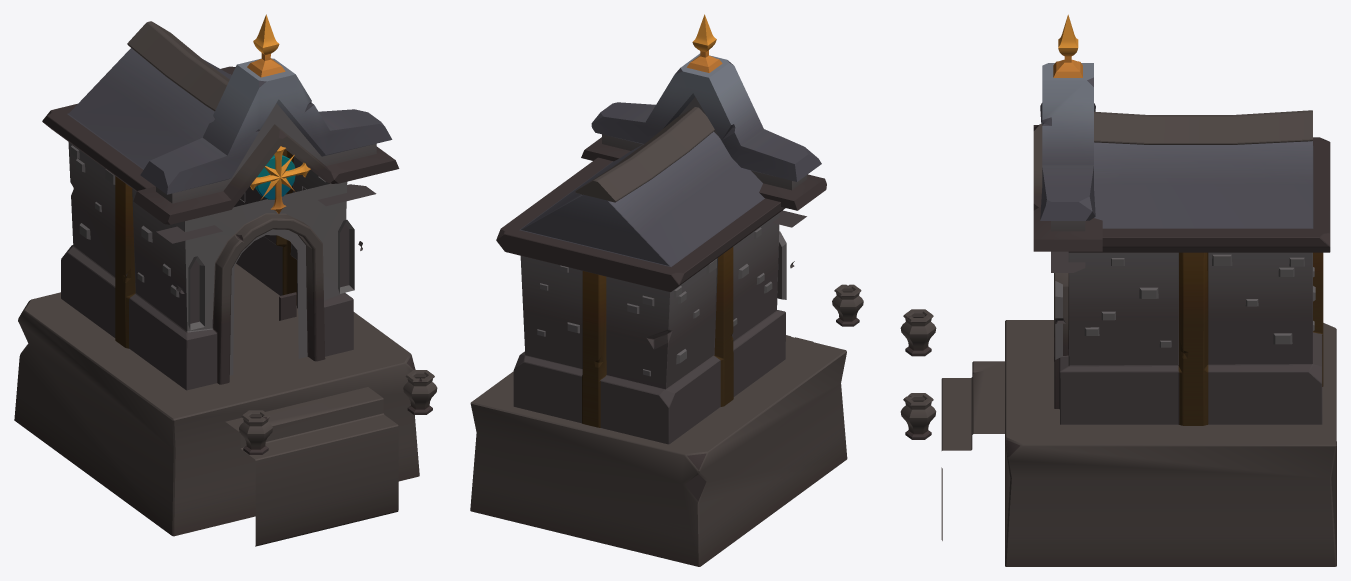
Rendered from Crypt_01_3.fbx.
3 renders of one model, left to right at view 1: azimuth 30°, elevation 25°; view 2: azimuth 150°, elevation 25°; view 3: azimuth 270°, elevation 25°, orthographic. The views are drawn at different scales.
Parts seen in each view (by area): view 1: Crypt_01_3; view 2: Crypt_01_3; view 3: Crypt_01_3.
Part boxes in pixels (bbox=[...]): Crypt_01_3: bbox=[14, 14, 437, 546]; Crypt_01_3: bbox=[470, 14, 863, 566]; Crypt_01_3: bbox=[900, 14, 1336, 566].
Size of the model in its own units: 610 by 1110 by 903.
